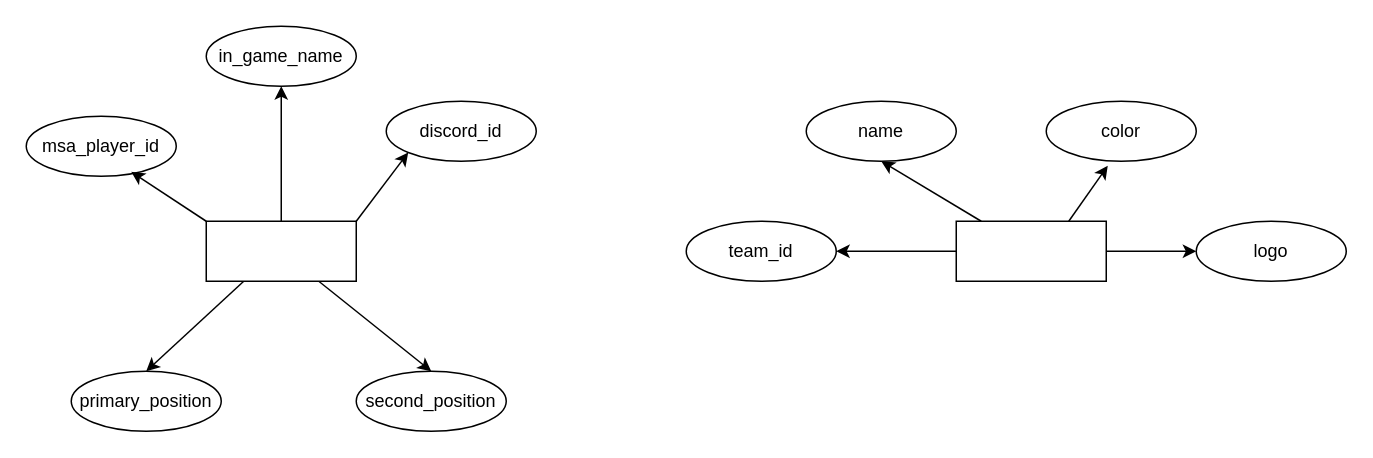
Image size: 1373x458. Some labels were removed from this diagram. Each missing label, with the centre of its shape:
"Players" belongs at [280,250].
"Team" belongs at [1030,250].
